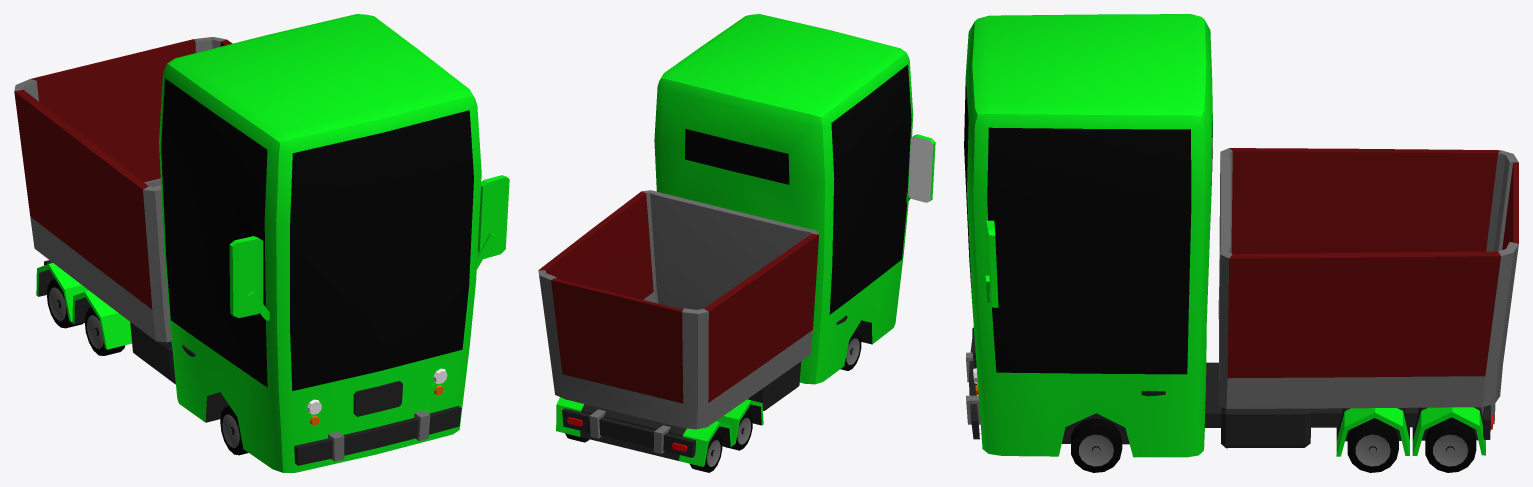
The picture shows the model from 3 angles, left to right: view 1: azimuth 30°, elevation 25°; view 2: azimuth 150°, elevation 25°; view 3: azimuth 270°, elevation 25°; orthographic projection. The views are drawn at different scales.
Parts seen in each view (by area): view 1: Cube, Cube.004, Cube.005, Cube.001, Cube.003, Cube.002, Cylinder.002, Cylinder.005, Cylinder.003; view 2: Cube, Cube.004, Cube.005, Cube.003, Cube.001, Cube.002, Cylinder.005, Cylinder.003, Cylinder.002; view 3: Cube, Cube.004, Cube.002, Cylinder, Cylinder.004, Cylinder.001, Cube.003, Cube.005, Cube.001.
Boxes of the visible parts, bbox=[...] form: Cube: bbox=[36, 14, 481, 472]; Cube.004: bbox=[14, 37, 232, 342]; Cube.005: bbox=[31, 39, 195, 182]; Cube.001: bbox=[229, 175, 509, 320]; Cube.003: bbox=[44, 260, 461, 465]; Cube.002: bbox=[130, 322, 175, 384]; Cylinder.002: bbox=[220, 406, 248, 455]; Cylinder.005: bbox=[46, 279, 84, 328]; Cylinder.003: bbox=[84, 307, 125, 355]; Cube: bbox=[556, 14, 913, 466]; Cube.004: bbox=[538, 190, 818, 429]; Cube.005: bbox=[551, 278, 683, 403]; Cube.003: bbox=[562, 408, 695, 457]; Cube.001: bbox=[906, 134, 935, 202]; Cube.002: bbox=[747, 361, 801, 410]; Cylinder.005: bbox=[689, 433, 722, 472]; Cylinder.003: bbox=[722, 411, 752, 450]; Cylinder.002: bbox=[840, 331, 861, 370]; Cube: bbox=[964, 14, 1485, 457]; Cube.004: bbox=[1218, 148, 1518, 408]; Cube.002: bbox=[1204, 362, 1418, 448]; Cylinder: bbox=[1071, 418, 1122, 472]; Cylinder.004: bbox=[1425, 418, 1476, 472]; Cylinder.001: bbox=[1347, 418, 1398, 472]; Cube.003: bbox=[966, 339, 1495, 439]; Cube.005: bbox=[1502, 162, 1518, 249]; Cube.001: bbox=[985, 220, 998, 307].
Bounding box in the file's own units: 170 × 212 × 288.
1 material, 1 textured.
